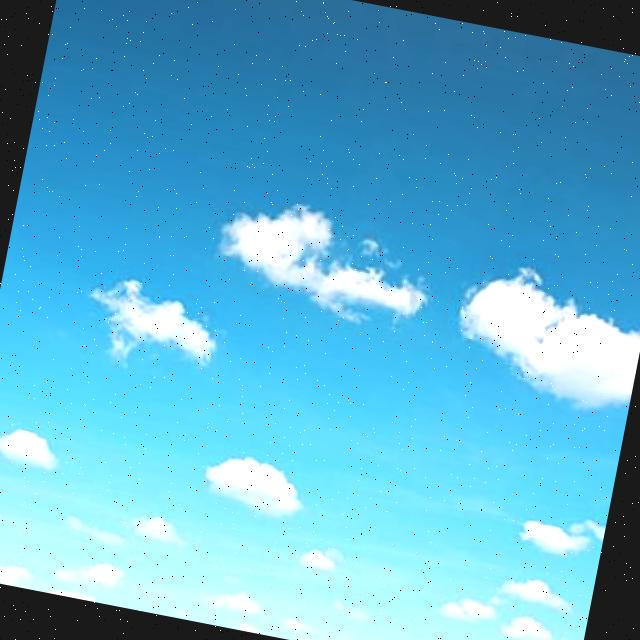Cu: (1, 114, 640, 581)
